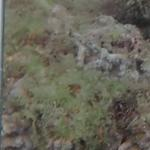dead: (13, 18, 136, 132)
